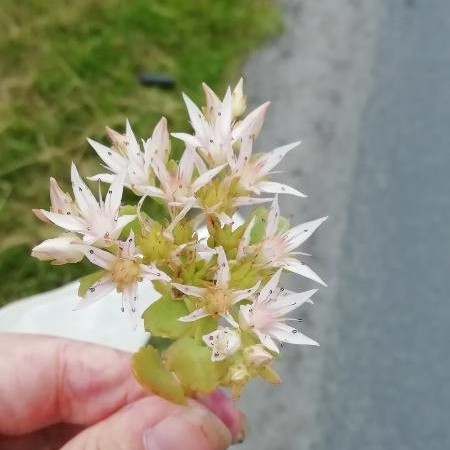obstacle: (50, 79, 316, 384)
